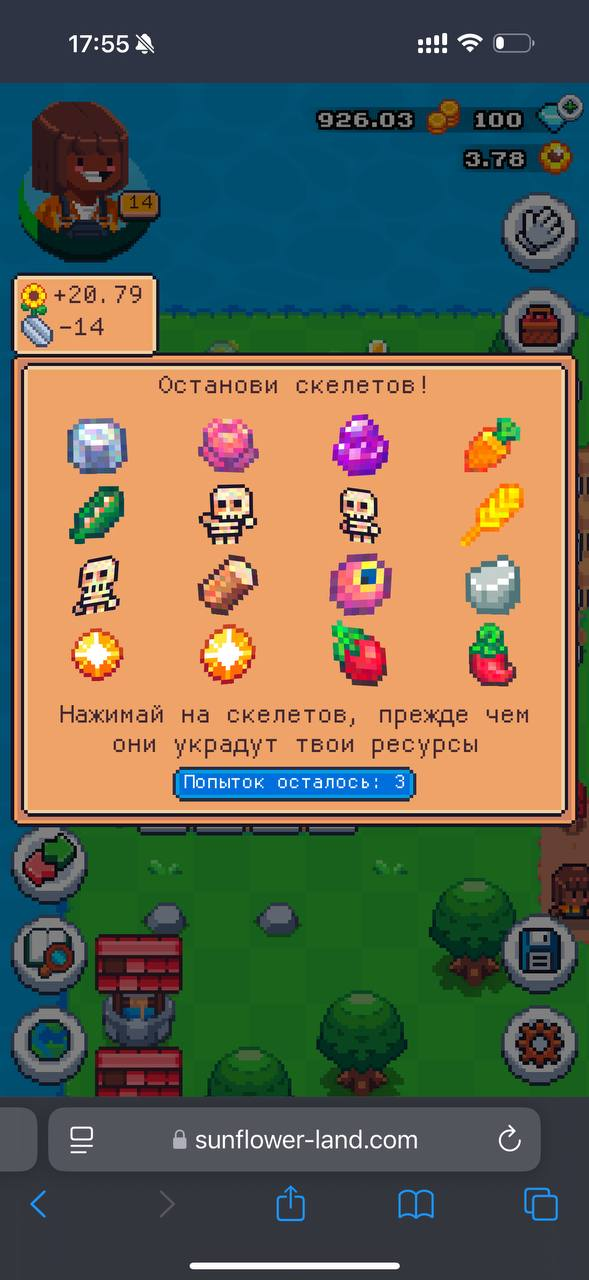capcha_sceleton: (197, 482, 257, 547), (71, 555, 120, 615), (339, 485, 381, 546)
